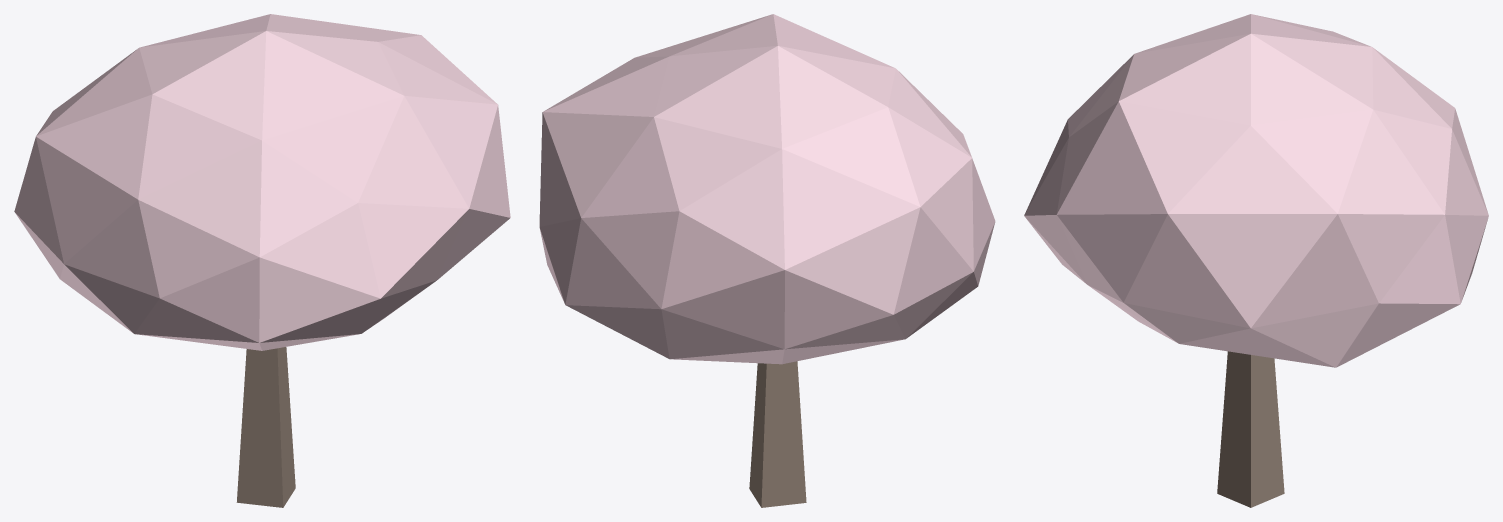
Rendered from tree-blossom-a-far.glb.
3 views of the same model, side by side, from view 1: azimuth 30°, elevation 25°; view 2: azimuth 150°, elevation 25°; view 3: azimuth 270°, elevation 25° (orthographic). The views are drawn at different scales.
Parts seen in each view (by area): view 1: tree-blossom-a-far; view 2: tree-blossom-a-far; view 3: tree-blossom-a-far.
Boxes of the visible parts, box(x1,y1,x2,y2) form: tree-blossom-a-far: box(14, 14, 510, 507); tree-blossom-a-far: box(539, 14, 995, 507); tree-blossom-a-far: box(1024, 14, 1488, 507).
Size of the model in its own units: 0.9762 by 0.9958 by 0.912.
